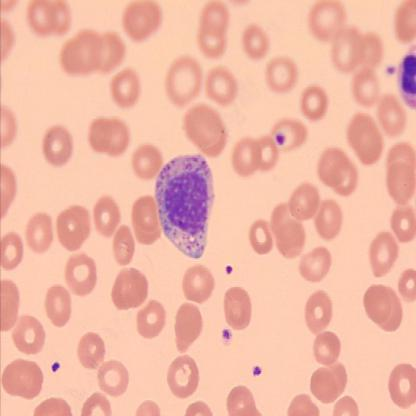Myelocyte: (156, 154, 214, 260)
